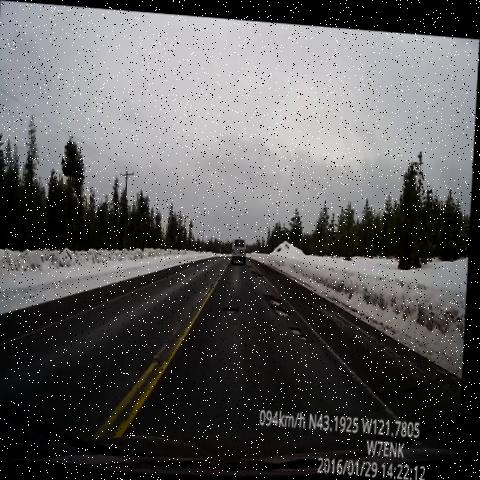pothole: (261, 281, 297, 320), (219, 293, 249, 320), (252, 258, 269, 281), (244, 254, 258, 266)
